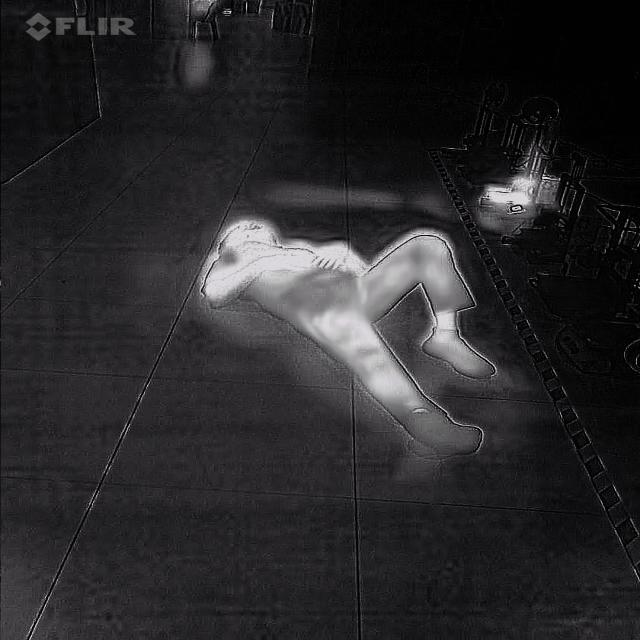Victim: (190, 212, 505, 464)
